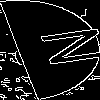N: (25, 25, 100, 70)
